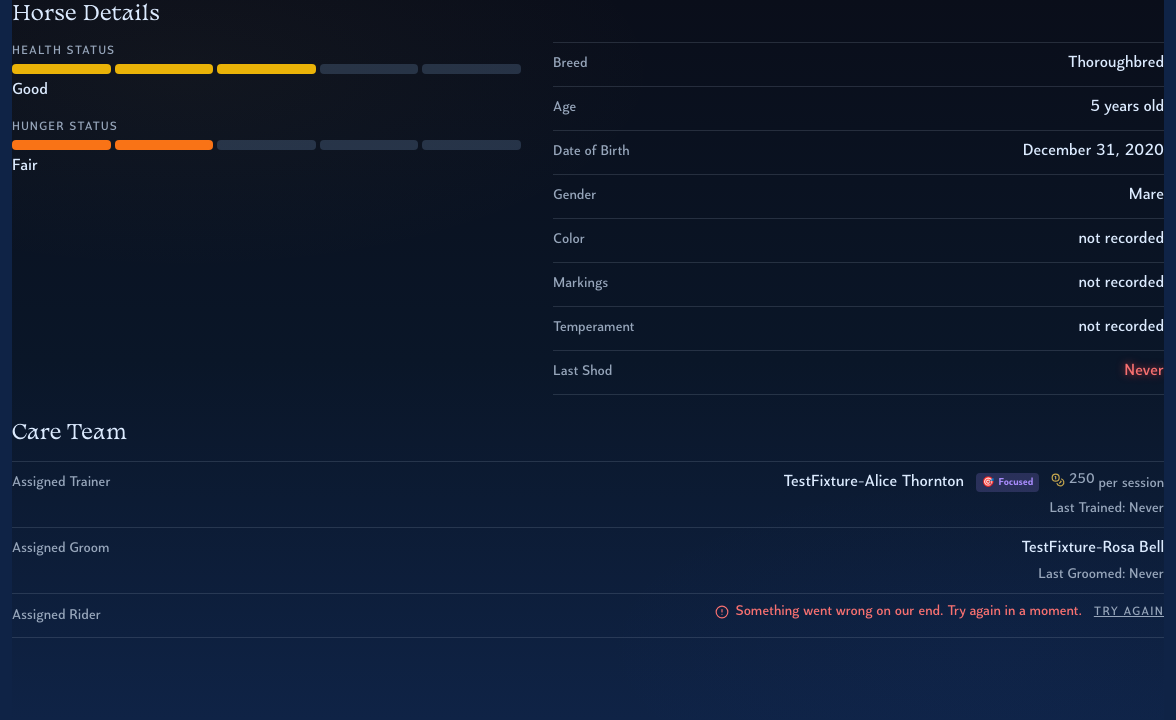
Test case: OverviewTab Care Team (Equoria-a6t0u) › shows a failed line with Try Again while the other lines still load
The image size is (1176, 720).
Expected: the message "Something went wrong on our end. Try again in a moment." is shown, [715,602,1082,622]
Expected: the element with test id "care-team-rider" does not show "No rider assigned", [715,602,1164,627]
Click the button "Try Again" at (1129, 612), box [1094,603,1164,621]
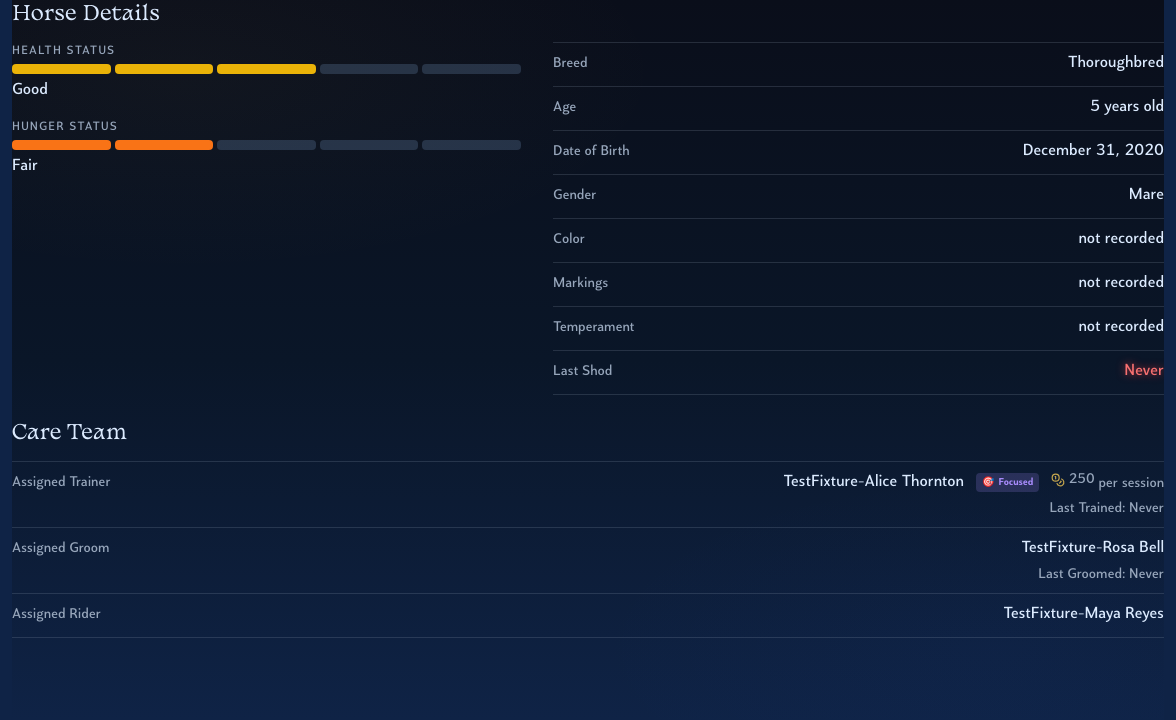
Expected: the text "TestFixture-Maya Reyes" is shown, [1003,606,1164,622]
